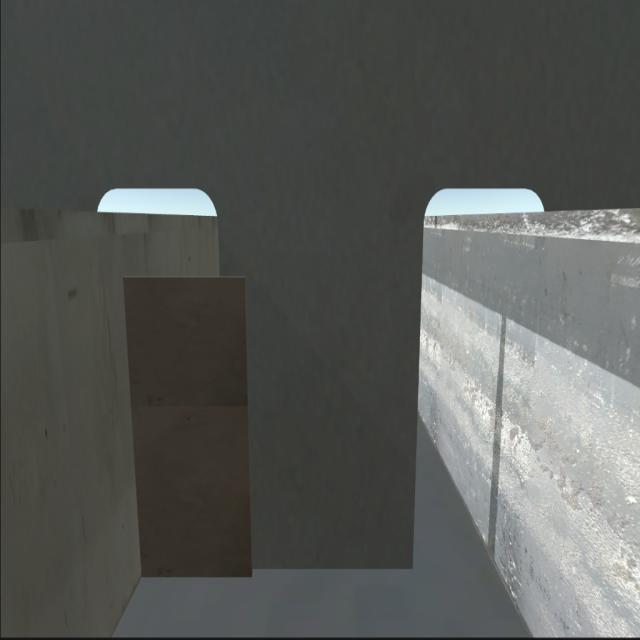fillet_yong_jeop_jang: (133, 559, 420, 581)
longi_yong_jeop_jang: (117, 276, 155, 580)
plate_CP01: (129, 279, 252, 577)
